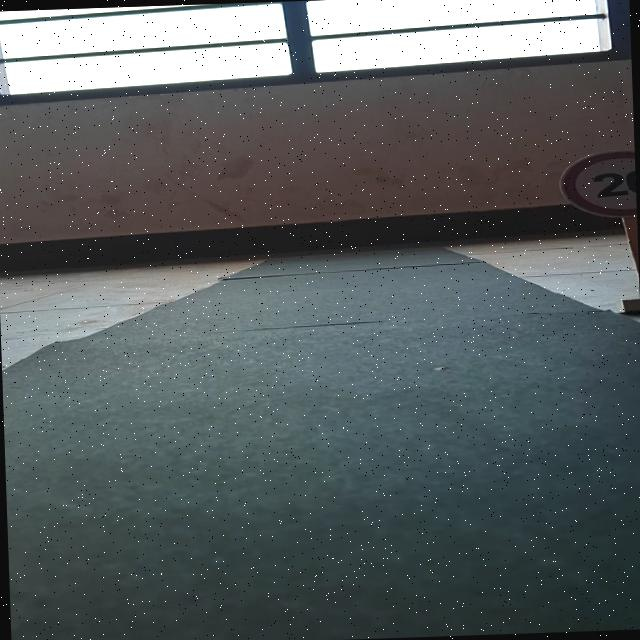Speed20: (548, 144, 637, 228)
